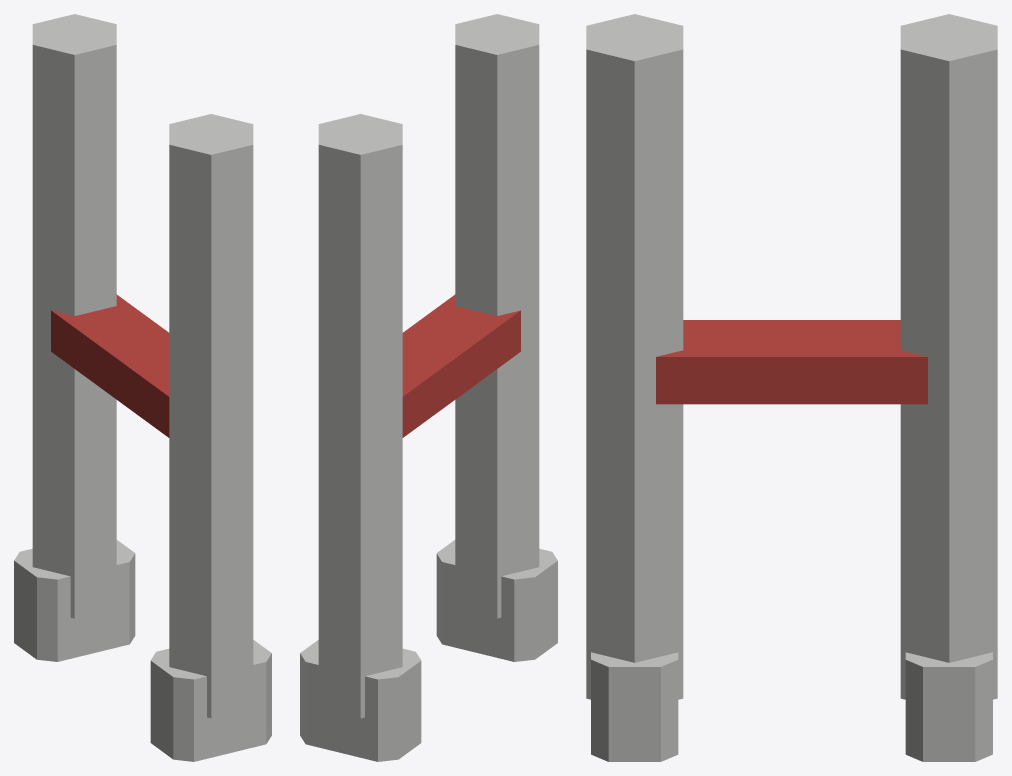
The model's file is scrambler_gaiter_long_lower_lod2.glb.
3 views of the same model, side by side, from view 1: azimuth 30°, elevation 25°; view 2: azimuth 150°, elevation 25°; view 3: azimuth 270°, elevation 25° (orthographic). The views are drawn at different scales.
Visible parts, largest first — view 1: scrambler_gaiter_long_lower_lod2; view 2: scrambler_gaiter_long_lower_lod2; view 3: scrambler_gaiter_long_lower_lod2.
Part boxes in pixels (x1,y1,x2,y2): scrambler_gaiter_long_lower_lod2: [14, 14, 271, 761]; scrambler_gaiter_long_lower_lod2: [300, 14, 557, 761]; scrambler_gaiter_long_lower_lod2: [586, 14, 997, 761].
Size of the model in its own units: 0.075 by 0.44 by 0.2354.
